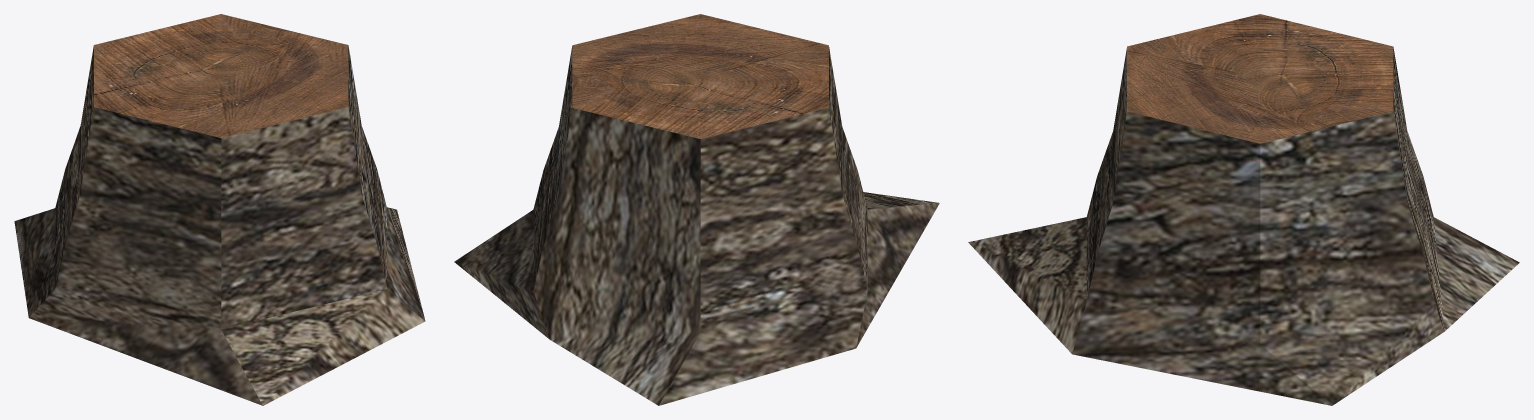
File: Tree Trunk.fbx
The picture shows the model from 3 angles, left to right: view 1: azimuth 30°, elevation 25°; view 2: azimuth 150°, elevation 25°; view 3: azimuth 270°, elevation 25°; orthographic projection. The views are drawn at different scales.
Visible parts, largest first — view 1: Trunk; view 2: Trunk; view 3: Trunk.
Part boxes in pixels (x1,y1,x2,y2): Trunk: (14, 14, 425, 405); Trunk: (454, 14, 939, 405); Trunk: (968, 14, 1519, 405).
Bounding box in the file's own units: 19.92 × 11.43 × 23.73.
